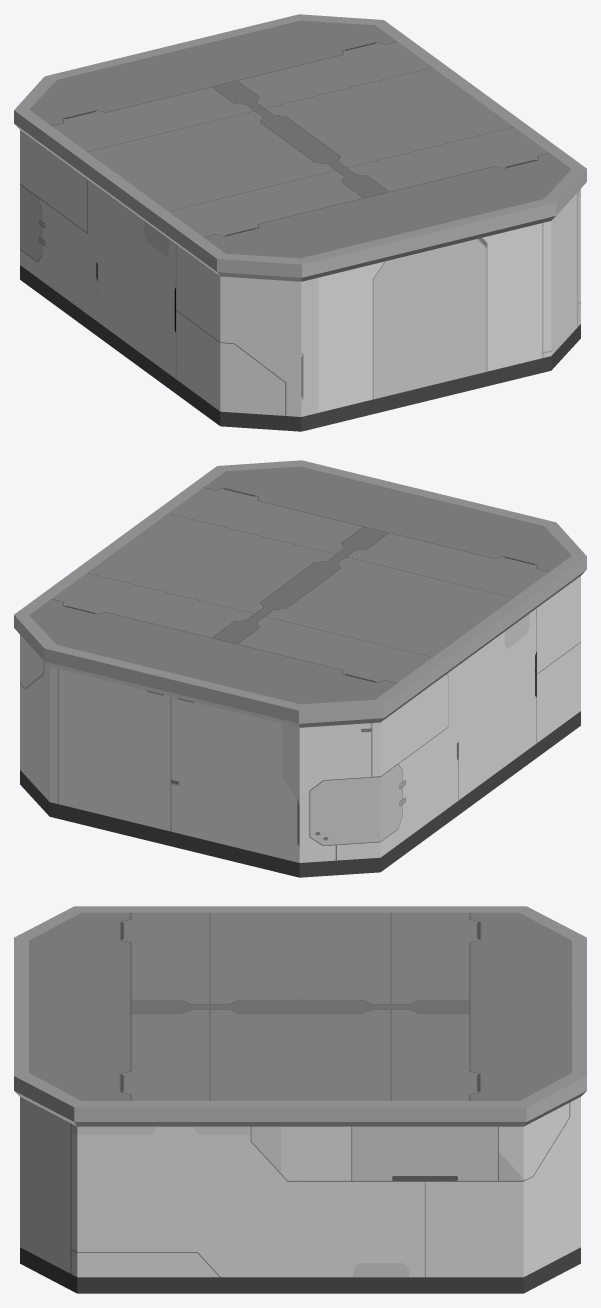
File: SM_Platform_3.fbx
The picture shows the model from 3 angles, top to bottom: view 1: azimuth 30°, elevation 25°; view 2: azimuth 150°, elevation 25°; view 3: azimuth 270°, elevation 25°; orthographic projection. The views are drawn at different scales.
Parts seen in each view (by area): view 1: SM_Platform_C; view 2: SM_Platform_C; view 3: SM_Platform_C.
Boxes of the visible parts, x1,y1,x2,y2 form: SM_Platform_C: (14,14,586,431); SM_Platform_C: (14,460,586,877); SM_Platform_C: (14,906,586,1293).
Size of the model in its own units: 342 by 150 by 412.
